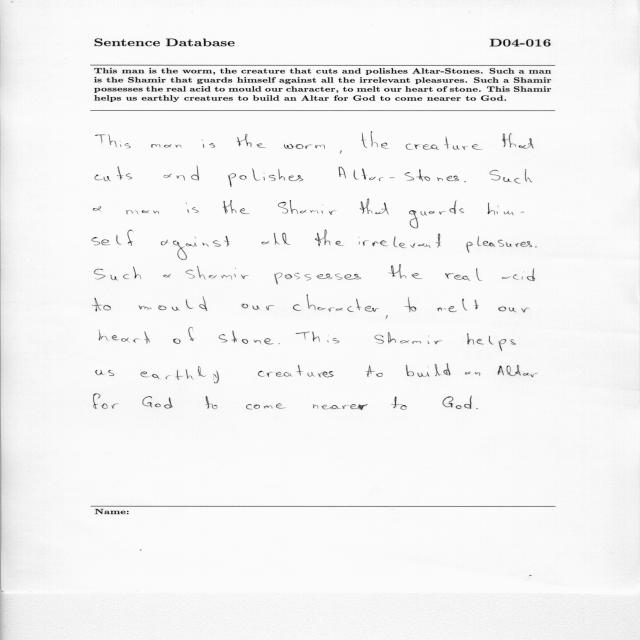word: (339, 151, 460, 182), (375, 316, 442, 344), (161, 236, 230, 260), (409, 201, 464, 229), (228, 168, 303, 187), (140, 366, 219, 383), (358, 234, 441, 249), (293, 295, 361, 312), (467, 236, 532, 253), (406, 136, 482, 150), (258, 365, 333, 378), (274, 273, 361, 284), (139, 297, 207, 311), (278, 200, 337, 215), (467, 333, 516, 351), (185, 266, 249, 279), (219, 331, 273, 345), (99, 330, 150, 343), (94, 267, 141, 281), (92, 230, 133, 246), (490, 169, 533, 184), (406, 364, 450, 377), (164, 165, 199, 181), (95, 166, 132, 181), (437, 299, 479, 312), (296, 332, 340, 344), (502, 133, 534, 149), (389, 265, 423, 280), (95, 135, 131, 149), (497, 365, 538, 377), (445, 268, 482, 281), (315, 230, 344, 246), (360, 199, 389, 214), (488, 203, 524, 215), (502, 268, 535, 281), (236, 134, 266, 148), (142, 396, 173, 409), (442, 396, 472, 409), (223, 200, 250, 214), (261, 232, 290, 245), (94, 394, 119, 409), (173, 327, 195, 344), (313, 404, 367, 410), (370, 132, 388, 149), (94, 297, 111, 312), (246, 404, 285, 410), (242, 304, 275, 311), (365, 365, 383, 377), (392, 396, 407, 410), (284, 144, 325, 149), (499, 307, 530, 313), (404, 297, 416, 312), (206, 396, 218, 409), (186, 202, 199, 213), (126, 210, 159, 214), (151, 144, 182, 148), (202, 139, 215, 148), (96, 370, 114, 376), (361, 132, 367, 148), (365, 306, 379, 312), (465, 371, 480, 376), (93, 207, 101, 212), (164, 274, 171, 278), (464, 181, 466, 183), (535, 247, 537, 248), (278, 344, 280, 345), (476, 408, 478, 409)
